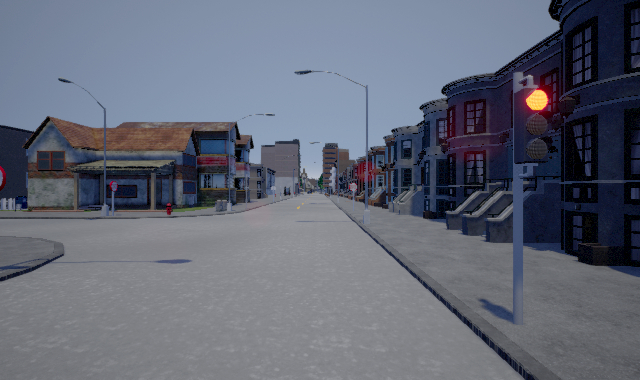traffic_light: (514, 83, 554, 163)
traffic_sign: (1, 166, 6, 191), (110, 181, 118, 192), (349, 183, 357, 191)
